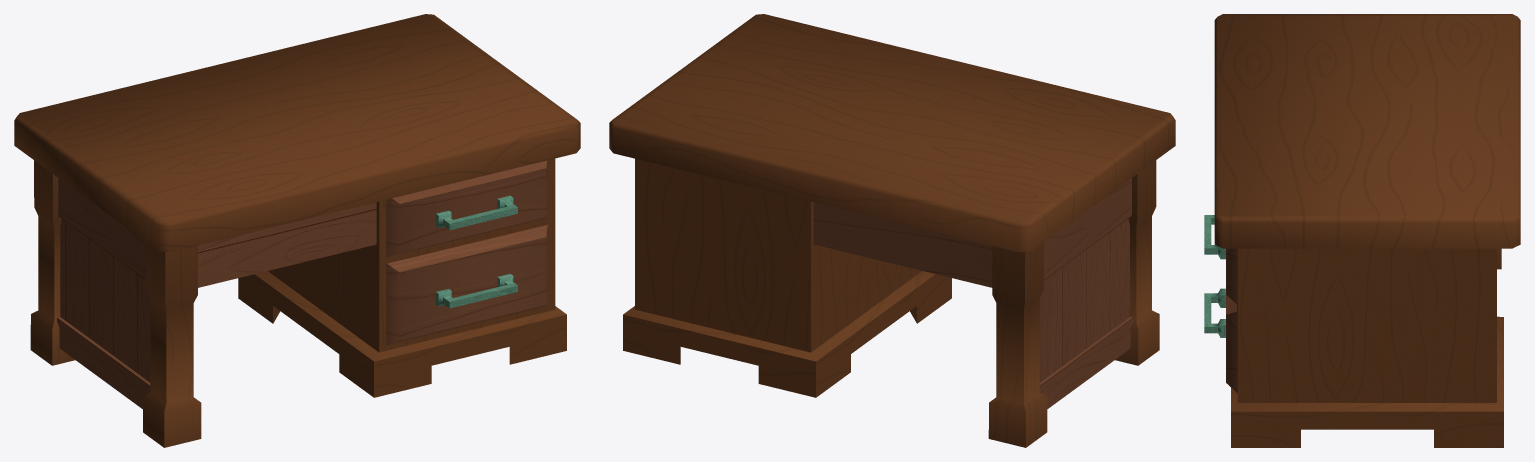
File: Work_Table.fbx
3 renders of one model, left to right at view 1: azimuth 30°, elevation 25°; view 2: azimuth 150°, elevation 25°; view 3: azimuth 270°, elevation 25°, orthographic.
Visible parts, largest first — view 1: Work_Table; view 2: Work_Table; view 3: Work_Table.
Part boxes in pixels (x1,y1,x2,y2): Work_Table: [14, 14, 580, 447]; Work_Table: [609, 14, 1175, 447]; Work_Table: [1204, 14, 1520, 447].
Size of the model in its own units: 136 by 71.33 by 87.71.
